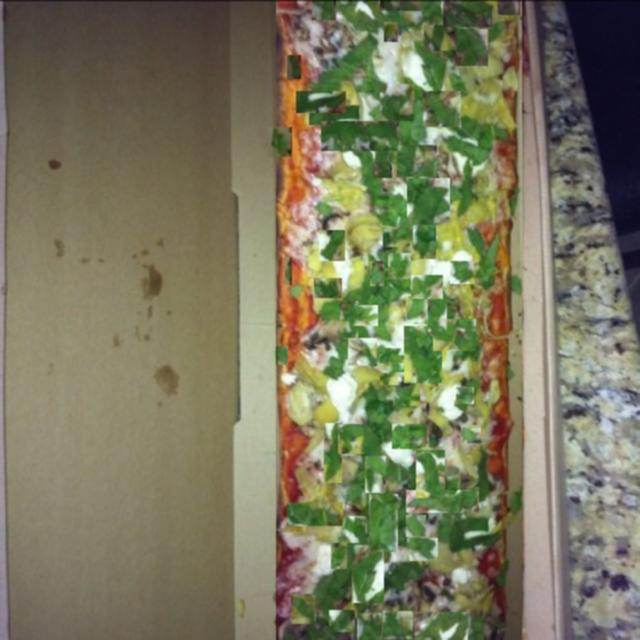basil: (444, 519, 491, 579), (407, 53, 466, 90), (404, 325, 442, 382), (408, 177, 452, 224), (352, 544, 384, 602), (369, 493, 398, 551), (406, 489, 479, 512), (414, 611, 468, 640), (366, 49, 416, 78), (321, 120, 368, 150), (416, 449, 445, 497), (433, 318, 476, 350), (423, 90, 461, 126), (416, 570, 450, 610), (354, 120, 399, 150), (287, 500, 343, 524), (453, 28, 488, 65), (397, 144, 437, 176), (443, 0, 492, 26), (380, 83, 414, 120), (296, 90, 346, 112), (324, 422, 342, 482), (374, 393, 395, 444), (312, 578, 353, 604), (394, 119, 430, 148), (309, 104, 360, 124), (305, 138, 324, 190), (392, 423, 429, 448), (302, 475, 326, 513), (424, 24, 457, 50), (383, 610, 413, 638), (396, 371, 420, 405), (366, 455, 388, 492), (348, 337, 377, 365), (319, 229, 345, 260), (413, 224, 436, 258), (338, 423, 364, 453), (411, 274, 443, 298), (291, 593, 316, 623), (428, 297, 447, 335), (268, 126, 292, 156), (407, 537, 438, 560), (357, 612, 382, 640), (340, 300, 358, 338), (342, 515, 367, 542), (388, 252, 411, 278), (383, 226, 412, 246), (329, 609, 355, 631), (324, 484, 354, 503), (406, 295, 426, 323), (314, 277, 342, 297), (450, 260, 474, 283), (354, 302, 379, 324), (375, 145, 392, 177), (312, 0, 336, 19), (406, 514, 426, 536), (331, 542, 347, 568), (380, 0, 421, 10), (380, 347, 406, 362), (461, 424, 481, 442), (308, 628, 340, 639), (336, 148, 358, 164), (370, 260, 384, 285), (278, 420, 288, 454), (287, 54, 301, 78), (371, 260, 384, 284), (498, 0, 520, 14), (456, 386, 474, 403), (384, 21, 398, 41), (276, 345, 288, 364), (372, 434, 384, 452), (381, 372, 398, 384), (285, 256, 292, 284)
pizza: (276, 0, 522, 640)
